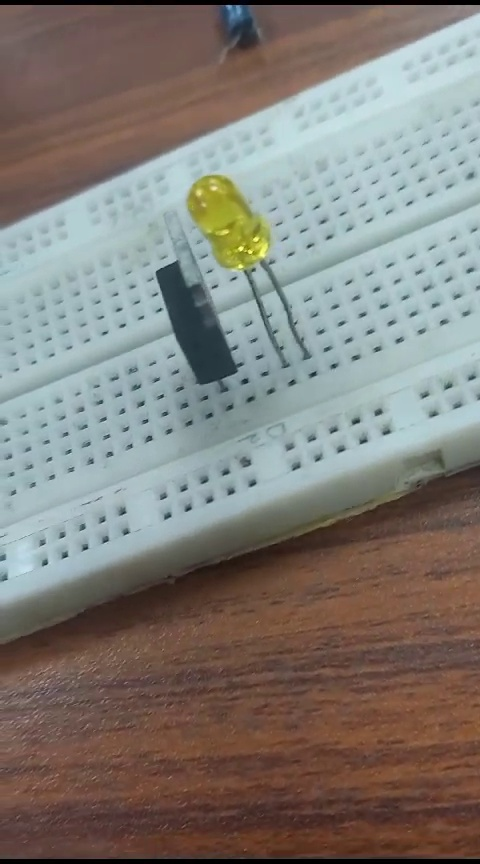LED: (190, 171, 290, 268)
voltage regulator: (134, 211, 228, 379)
